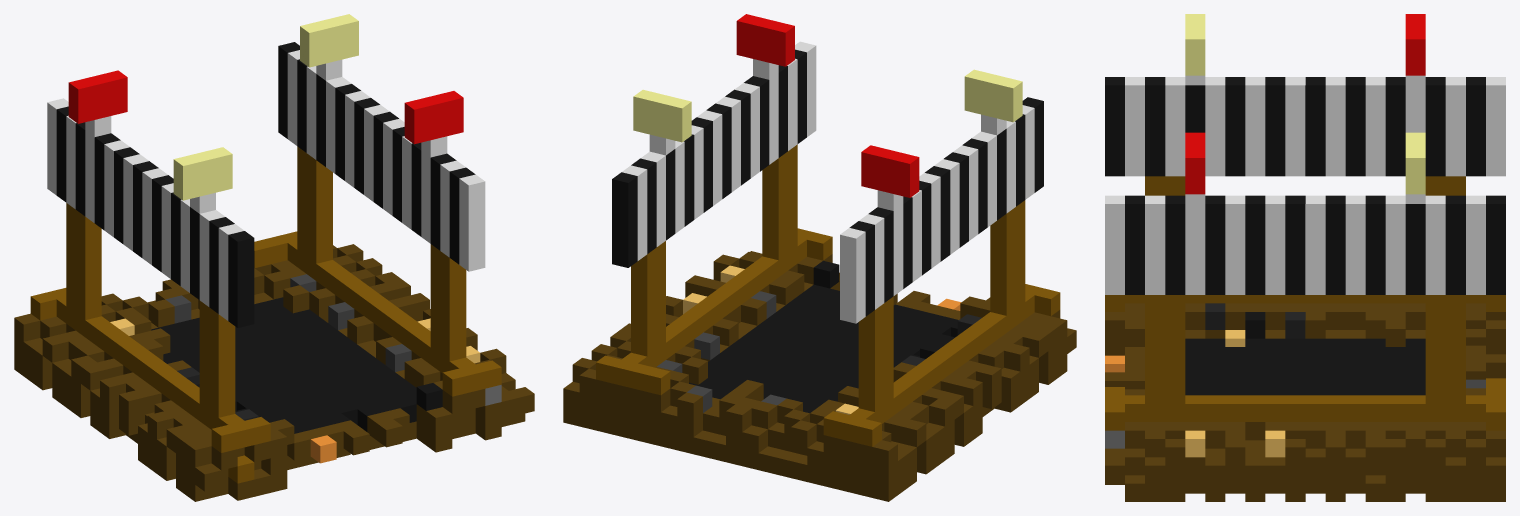
File: hole.obj
The picture shows the model from 3 angles, left to right: view 1: azimuth 30°, elevation 25°; view 2: azimuth 150°, elevation 25°; view 3: azimuth 270°, elevation 25°; orthographic projection. The views are drawn at different scales.
Size of the model in its own units: 2 by 1.8 by 2.
1 material, 1 textured.
